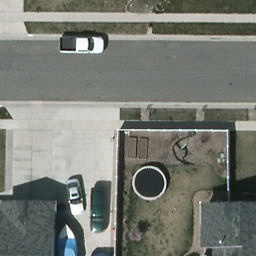car: (65, 176, 88, 215)
pickup: (59, 37, 110, 56), (90, 188, 107, 238)
